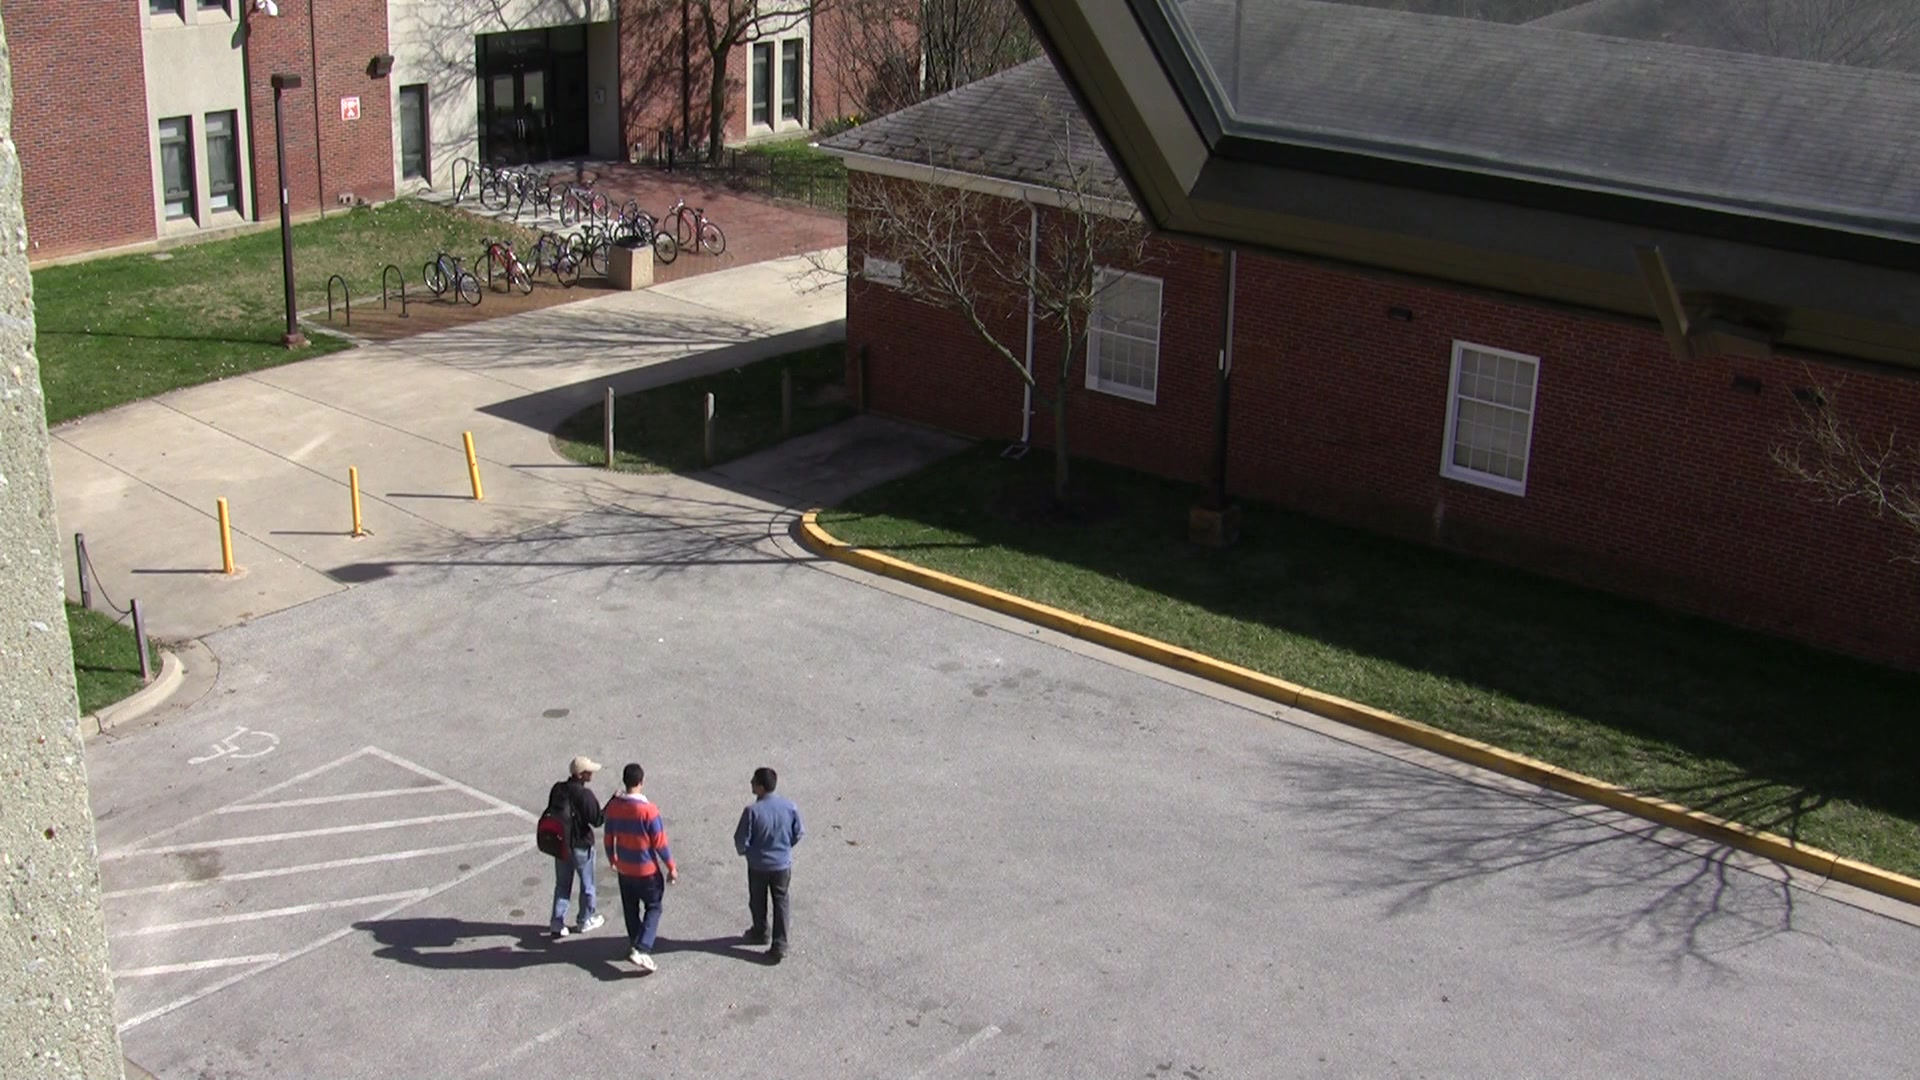person: (592, 765, 692, 982), (525, 741, 619, 951), (725, 761, 810, 976)
